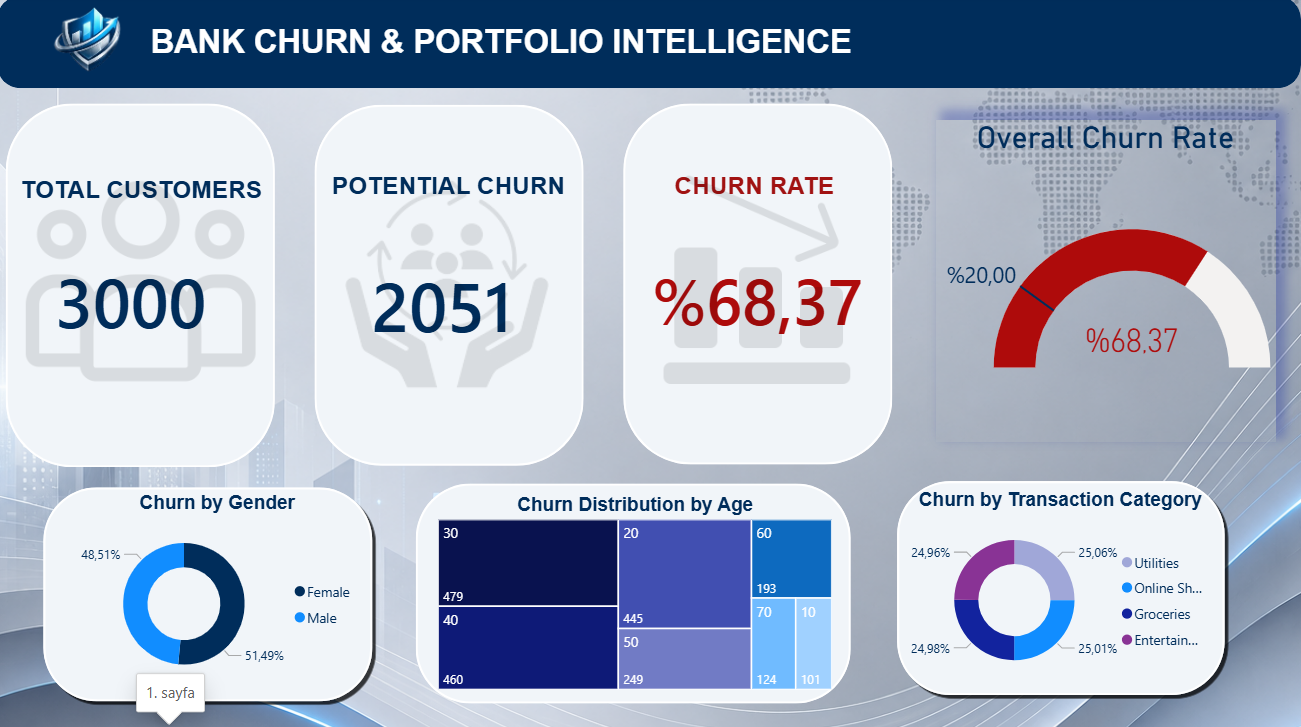

This screenshot's page, from the dashboard's own definition file:
{"tool":"powerbi","page":{"name":"1. sayfa","canvas":[1280,720],"ordinal":0},"visuals":[{"type":"shape","box":[8.2,106.1,264.3,357.1],"z":0},{"type":"shape","box":[0,0,1280,90.4],"z":1000},{"type":"shape","box":[40,477.1,332.9,220],"z":2000},{"type":"shape","box":[411,478.5,427,216],"z":2500},{"type":"textbox","box":[123.8,22.3,741.6,47.3],"z":3000},{"type":"cardVisual","title":"Total Customers","fields":{"Data":["_Measures.Total Customers"]},"box":[28.2,217.1,232.3,160],"z":4000},{"type":"textbox","box":[18.4,171.2,258.8,41.7],"z":5000},{"type":"image","box":[28.2,121.1,225.4,317.2],"z":6000},{"type":"image","box":[15.3,2.8,147.5,90.4],"z":7000},{"type":"shape","box":[311.3,106.3,264.3,354.3],"z":8000},{"type":"cardVisual","title":"Total Customers","fields":{"Data":["_Measures.Potential Churn Accounts"]},"box":[339,221.4,232.3,160],"z":9000},{"type":"textbox","box":[324.1,167.7,260,41.4],"z":10000},{"type":"image","box":[311.4,105.7,260,354.3],"z":11000},{"type":"shape","box":[614.3,106.1,264.3,354.3],"z":12000},{"type":"cardVisual","title":"Total Customers","fields":{"Data":["_Measures.Churn Rate %"]},"box":[614.3,215.7,275.7,160],"z":13000},{"type":"textbox","box":[659.6,168.4,178.1,41.7],"z":14000},{"type":"image","box":[633.2,120,225.4,317.2],"z":15000},{"type":"gauge","title":"Overall Churn Rate","fields":{"Y":["_Measures.Churn Rate %"]},"box":[921.5,121.5,333.7,316.6],"z":16000},{"type":"donutChart","title":"Churn by Gender","fields":{"Y":["_Measures.Potential Churn Accounts"],"Category":["Customers.Gender"]},"box":[71.6,487.1,290,198.6],"z":17000},{"type":"shape","box":[878.6,471.4,331.4,220],"z":18000},{"type":"donutChart","title":"Churn by Transaction Category","fields":{"Y":["_Measures.Potential Churn Accounts"],"Category":["Transactions.Category"]},"box":[890,482.9,308.6,198.6],"z":19000},{"type":"treemap","title":"Churn Distribution by Age","fields":{"Group":["Customers.Age (bölme)"],"Values":["_Measures.Potential Churn Accounts"]},"box":[428.2,488.3,396.3,197.5],"z":20000}]}

Visuals, with their boxes in screenshot pixels (x1, y1, x2, y2), scaled from the page's 1280x720 canvas onto the 1301x727 screenshot:
shape: pyautogui.locateOnScreen(8, 107, 277, 468)
shape: pyautogui.locateOnScreen(0, 0, 1300, 91)
shape: pyautogui.locateOnScreen(41, 482, 379, 704)
shape: pyautogui.locateOnScreen(418, 483, 852, 701)
textbox: pyautogui.locateOnScreen(126, 23, 880, 70)
"Total Customers" cardVisual: pyautogui.locateOnScreen(29, 219, 265, 381)
textbox: pyautogui.locateOnScreen(19, 173, 282, 215)
image: pyautogui.locateOnScreen(29, 122, 258, 443)
image: pyautogui.locateOnScreen(16, 3, 165, 94)
shape: pyautogui.locateOnScreen(316, 107, 585, 465)
"Total Customers" cardVisual: pyautogui.locateOnScreen(345, 224, 581, 385)
textbox: pyautogui.locateOnScreen(329, 169, 594, 211)
image: pyautogui.locateOnScreen(317, 107, 581, 464)
shape: pyautogui.locateOnScreen(624, 107, 893, 465)
"Total Customers" cardVisual: pyautogui.locateOnScreen(624, 218, 905, 379)
textbox: pyautogui.locateOnScreen(670, 170, 851, 212)
image: pyautogui.locateOnScreen(644, 121, 873, 441)
"Overall Churn Rate" gauge: pyautogui.locateOnScreen(937, 123, 1276, 442)
"Churn by Gender" donutChart: pyautogui.locateOnScreen(73, 492, 368, 692)
shape: pyautogui.locateOnScreen(893, 476, 1230, 698)
"Churn by Transaction Category" donutChart: pyautogui.locateOnScreen(905, 488, 1218, 688)
"Churn Distribution by Age" treemap: pyautogui.locateOnScreen(435, 493, 838, 692)
